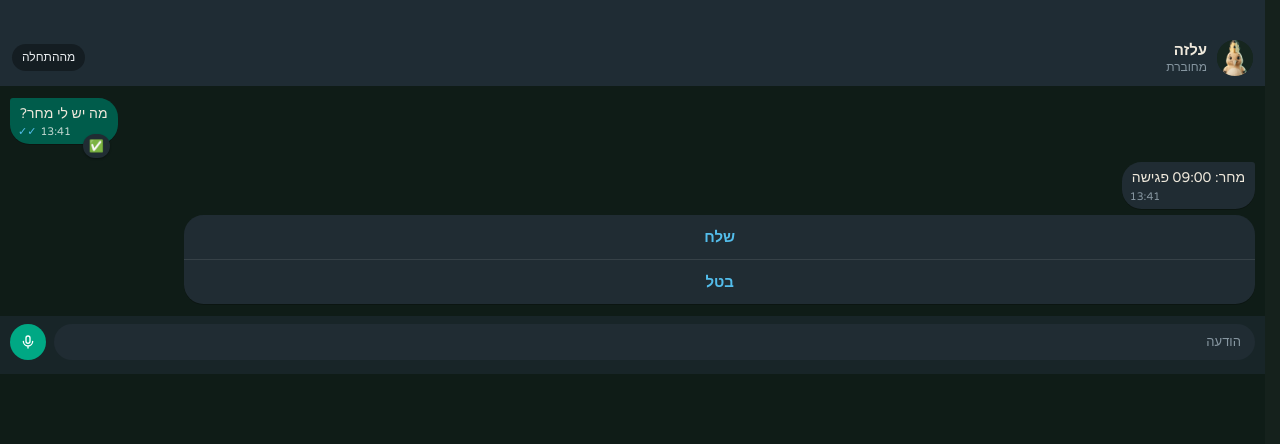
Test: ChatDemo › plays the script step by step with typing, then answers a button
This screenshot has width=1280, height=444.
Later steps or results of the test are not shown.
Expected: the text "מה יש לי מחר?" is shown, [20, 105, 108, 122]
Expected: the text "מקלידה…" is shown, [1166, 60, 1207, 75]
Click the button "שלח".
click(720, 237)  # box [184, 215, 1255, 259]
Wait 1400 ms
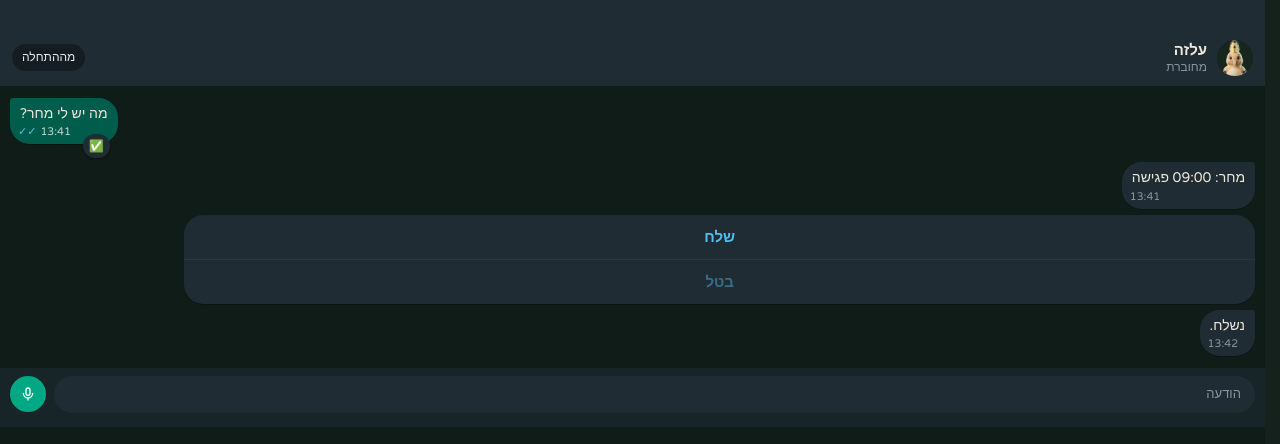
Now the button "בטל" is disabled, box [184, 259, 1255, 304]
Now the text "נשלח." is shown, box [1210, 317, 1245, 334]
